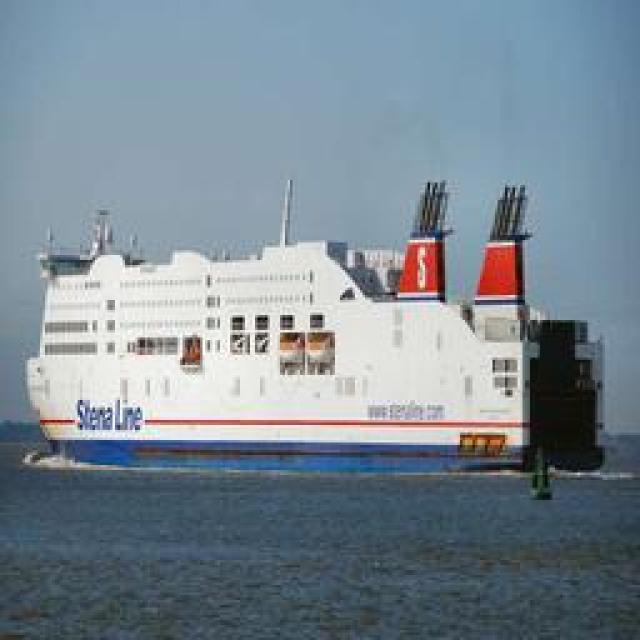ship2: (25, 173, 605, 476)
